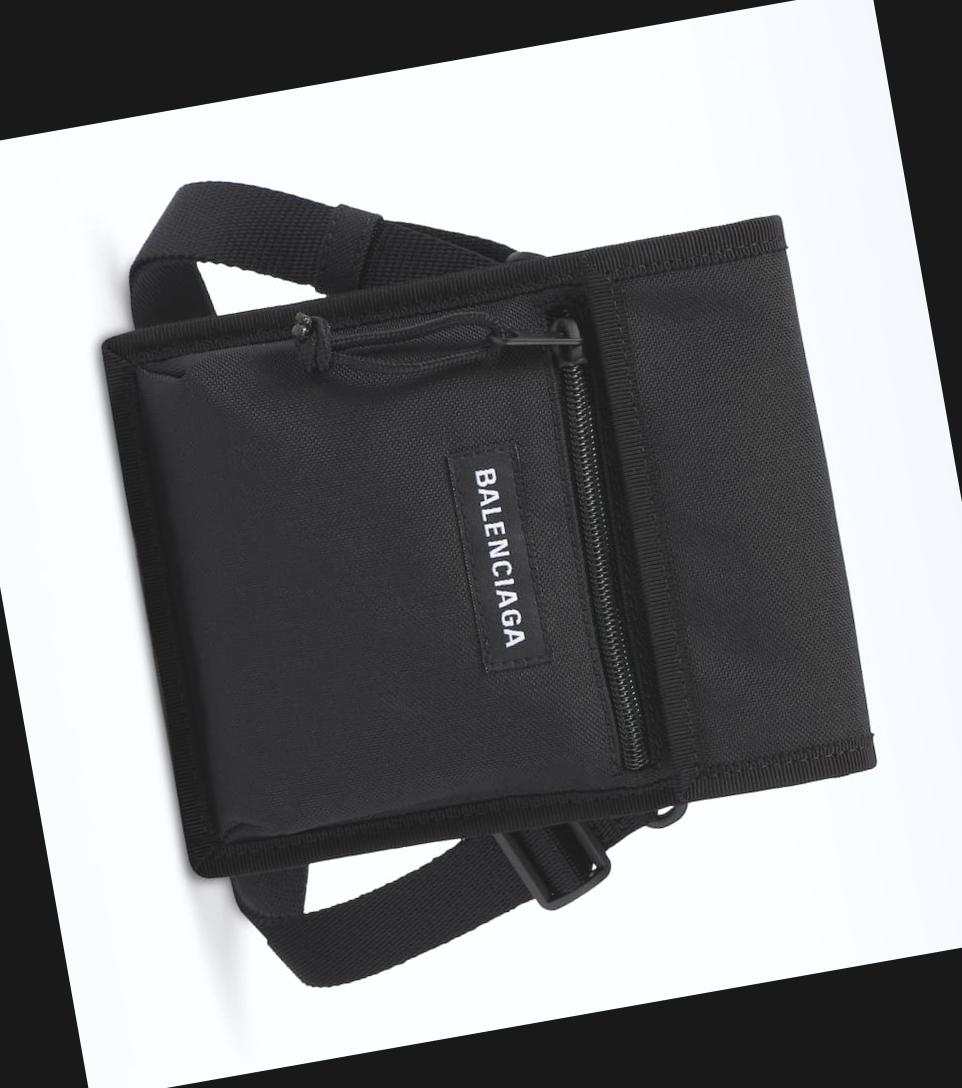BALENCIAGA: (473, 468, 526, 648)
